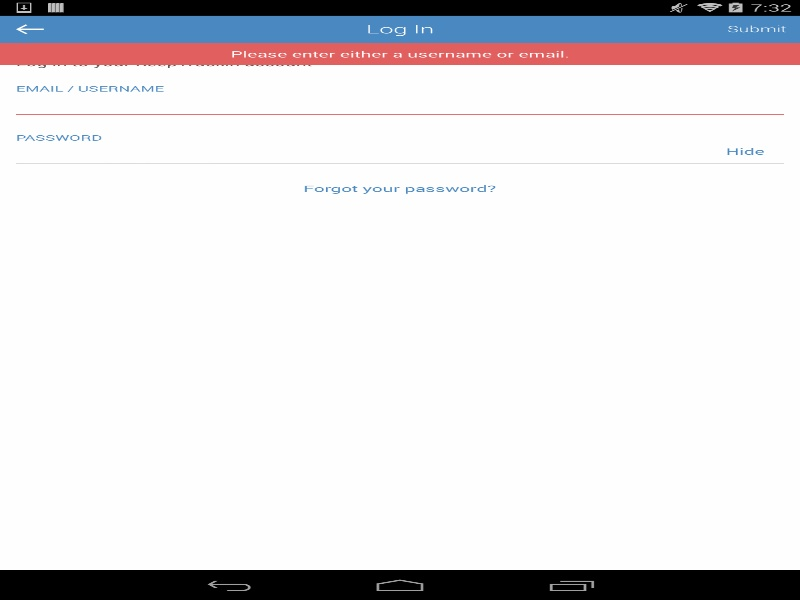Button: (295, 174, 504, 204), (698, 134, 784, 164), (711, 15, 800, 43)
Input: (16, 93, 784, 117), (16, 142, 784, 166)
